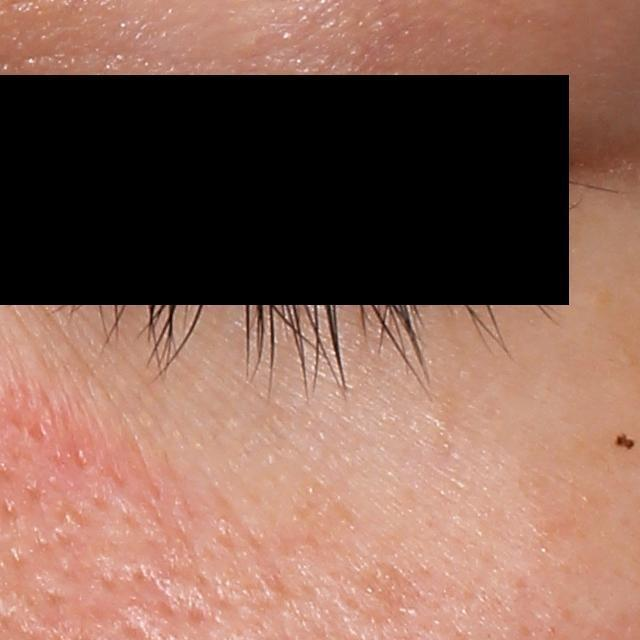nevus: (610, 429, 640, 450)
